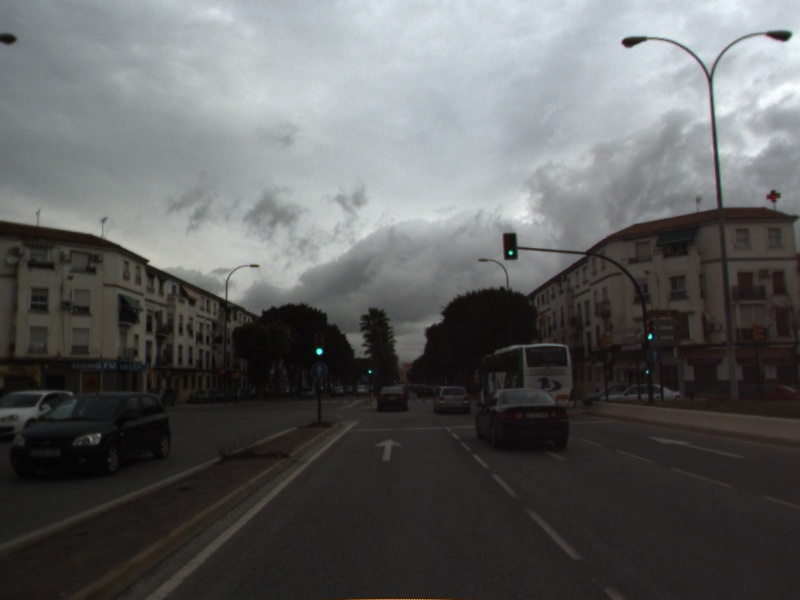STRAIGHT: (645, 433, 748, 461), (372, 436, 406, 463)
